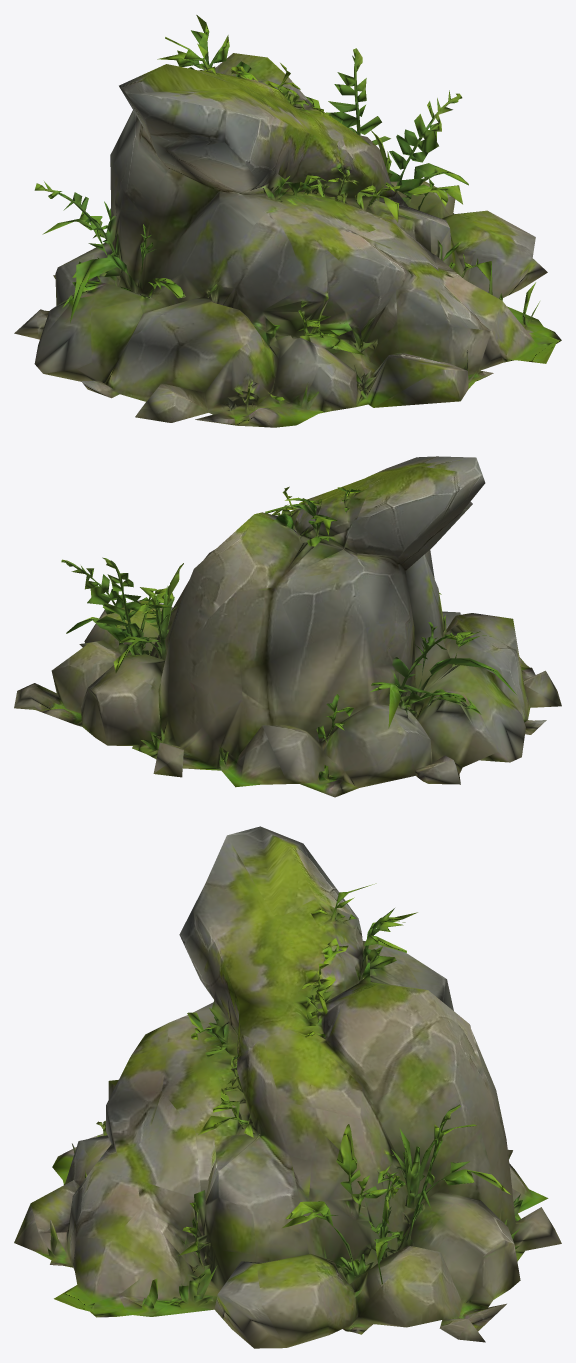
Rendered from rock-three.glb.
3 renders of one model, top to bottom at view 1: azimuth 30°, elevation 25°; view 2: azimuth 150°, elevation 25°; view 3: azimuth 270°, elevation 25°, orthographic. The views are drawn at different scales.
Parts seen in each view (by area): view 1: tripo_node_4a195eeb-b018-47b6-912a-aff5e1c171fb; view 2: tripo_node_4a195eeb-b018-47b6-912a-aff5e1c171fb; view 3: tripo_node_4a195eeb-b018-47b6-912a-aff5e1c171fb.
Boxes of the visible parts, <box> form: tripo_node_4a195eeb-b018-47b6-912a-aff5e1c171fb: <box>14,15,561,427</box>; tripo_node_4a195eeb-b018-47b6-912a-aff5e1c171fb: <box>14,456,561,797</box>; tripo_node_4a195eeb-b018-47b6-912a-aff5e1c171fb: <box>14,826,561,1348</box>.
Size of the model in its own units: 0.9597 by 0.5442 by 0.8744.
Materials: 1 (1 with a texture image).
